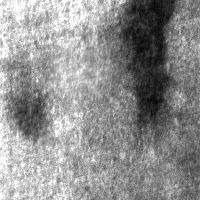patches: (124, 1, 173, 117), (47, 32, 119, 104), (9, 88, 49, 140)
